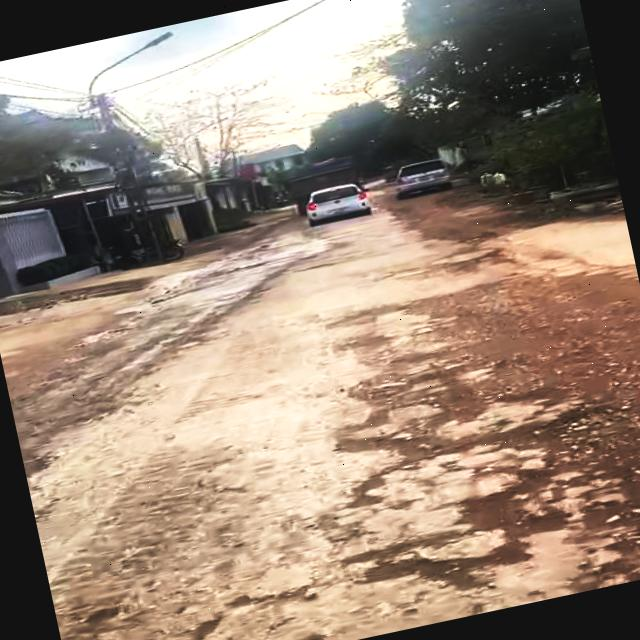pothole: (331, 462, 587, 610), (314, 382, 592, 504), (501, 517, 640, 606), (187, 613, 398, 640)
